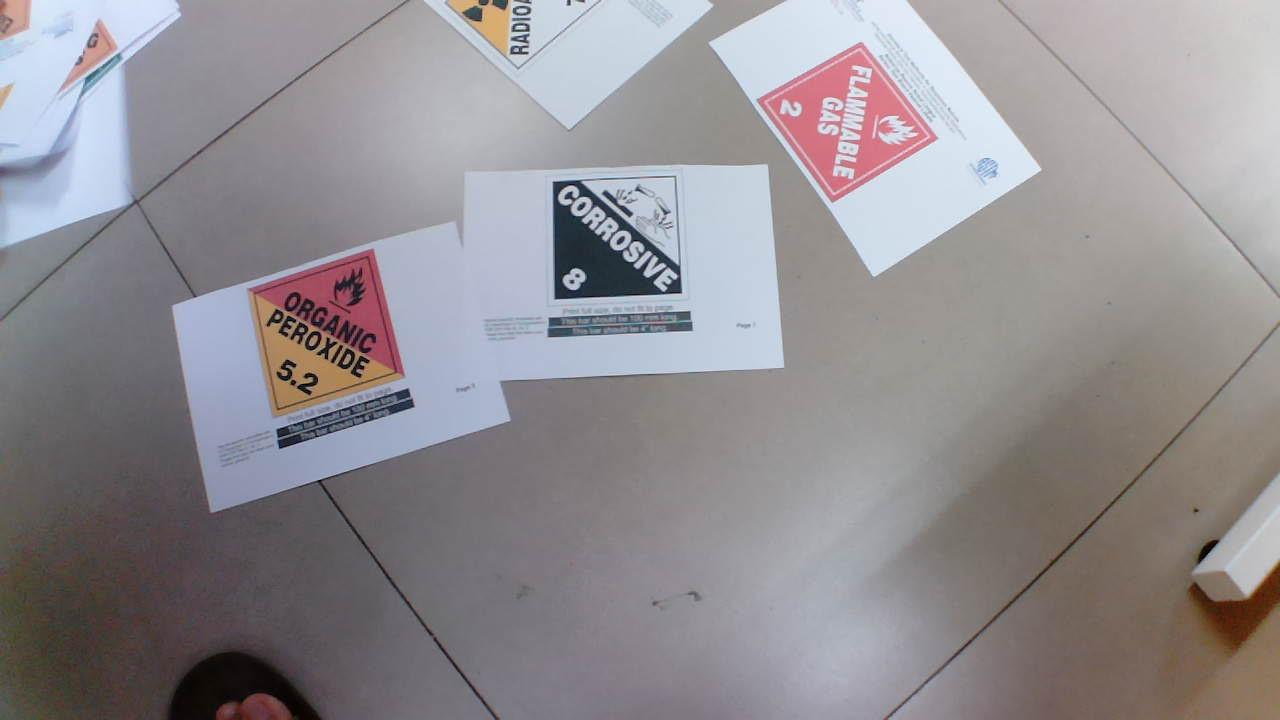corrosive: (540, 173, 700, 313)
flammable: (757, 38, 940, 201)
organic-peroxide: (250, 250, 408, 411)
radioactive: (433, 1, 622, 70)
